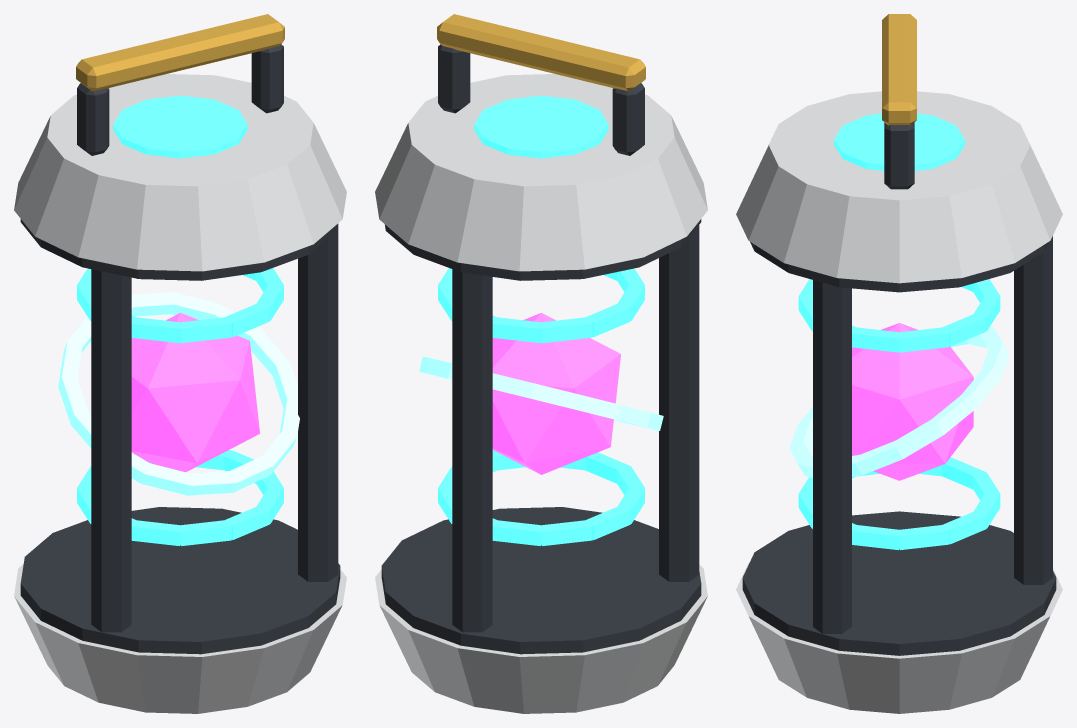
Rendered from antimatter_space.glb.
3 renders of one model, left to right at view 1: azimuth 30°, elevation 25°; view 2: azimuth 150°, elevation 25°; view 3: azimuth 270°, elevation 25°, orthographic. The views are drawn at different scales.
Parts seen in each view (by area): view 1: antimatter_space; view 2: antimatter_space; view 3: antimatter_space.
Boxes of the visible parts, x1,y1,x2,y2 form: antimatter_space: [14, 14, 346, 713]; antimatter_space: [375, 14, 707, 713]; antimatter_space: [736, 14, 1062, 713].
Bounding box in the file's own units: 0.15 × 0.304 × 0.15.
